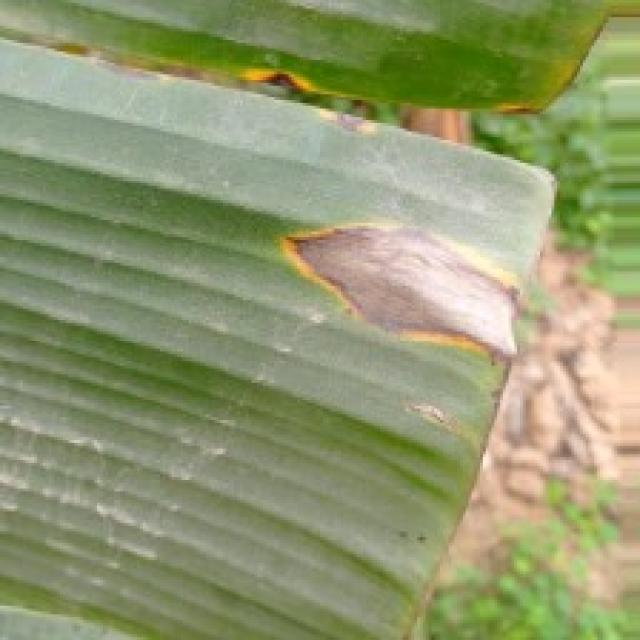Bacterial_spot: (273, 194, 526, 385), (233, 55, 354, 113), (79, 56, 210, 98), (400, 384, 467, 442), (487, 89, 549, 123)
